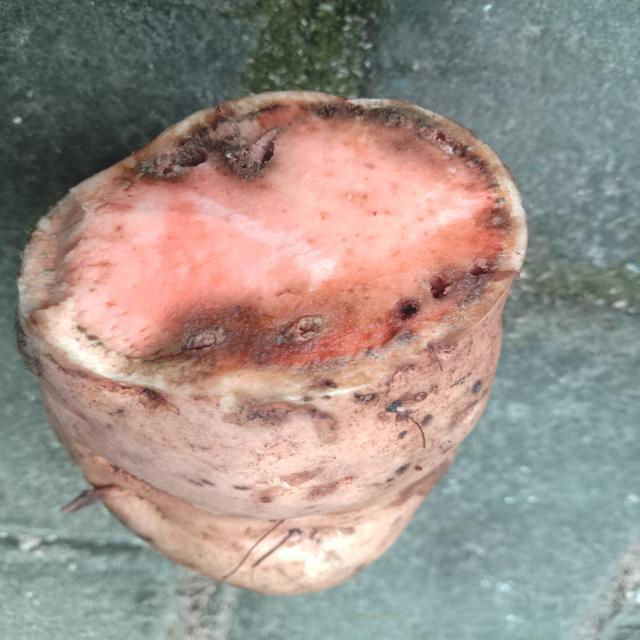Sick Sweet Potato_Tuber Rot: (18, 91, 527, 398)
